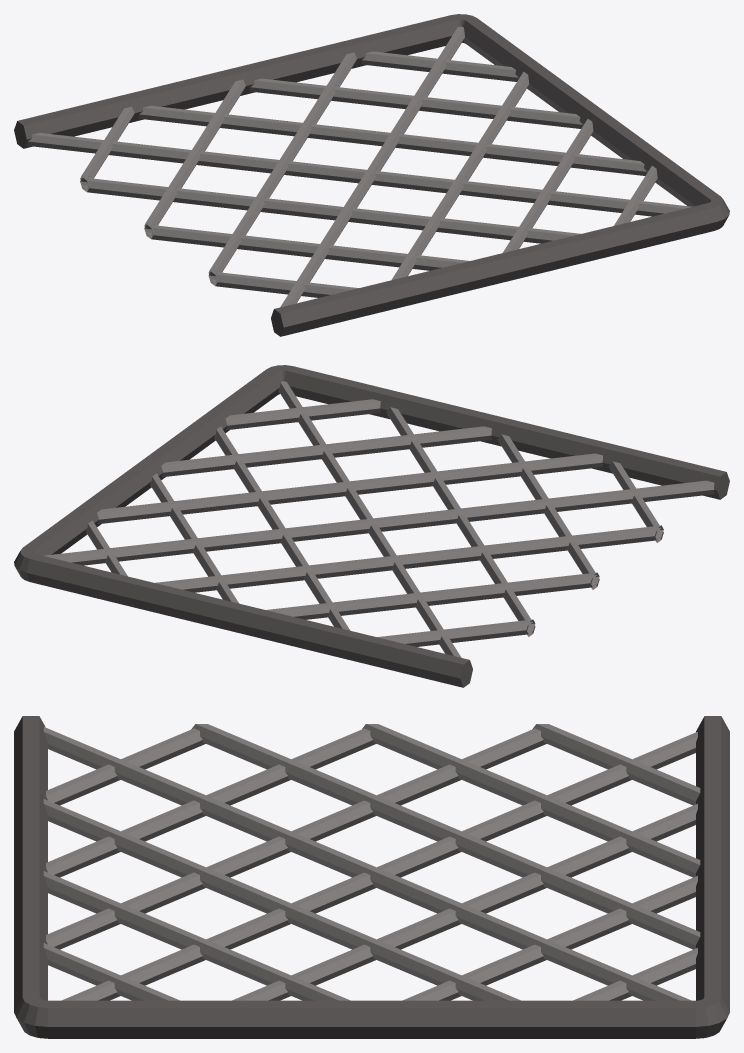
Rendered from tubeRoad2End.fbx.
3 renders of one model, top to bottom at view 1: azimuth 30°, elevation 25°; view 2: azimuth 150°, elevation 25°; view 3: azimuth 270°, elevation 25°, orthographic. The views are drawn at different scales.
Parts seen in each view (by area): view 1: Cylinder.003; view 2: Cylinder.003; view 3: Cylinder.003.
Boxes of the visible parts, box(x1,y1,x2,y2) form: Cylinder.003: box(14, 14, 729, 336); Cylinder.003: box(14, 365, 729, 687); Cylinder.003: box(14, 716, 729, 1038).
Size of the model in its own units: 410 by 20 by 420.
